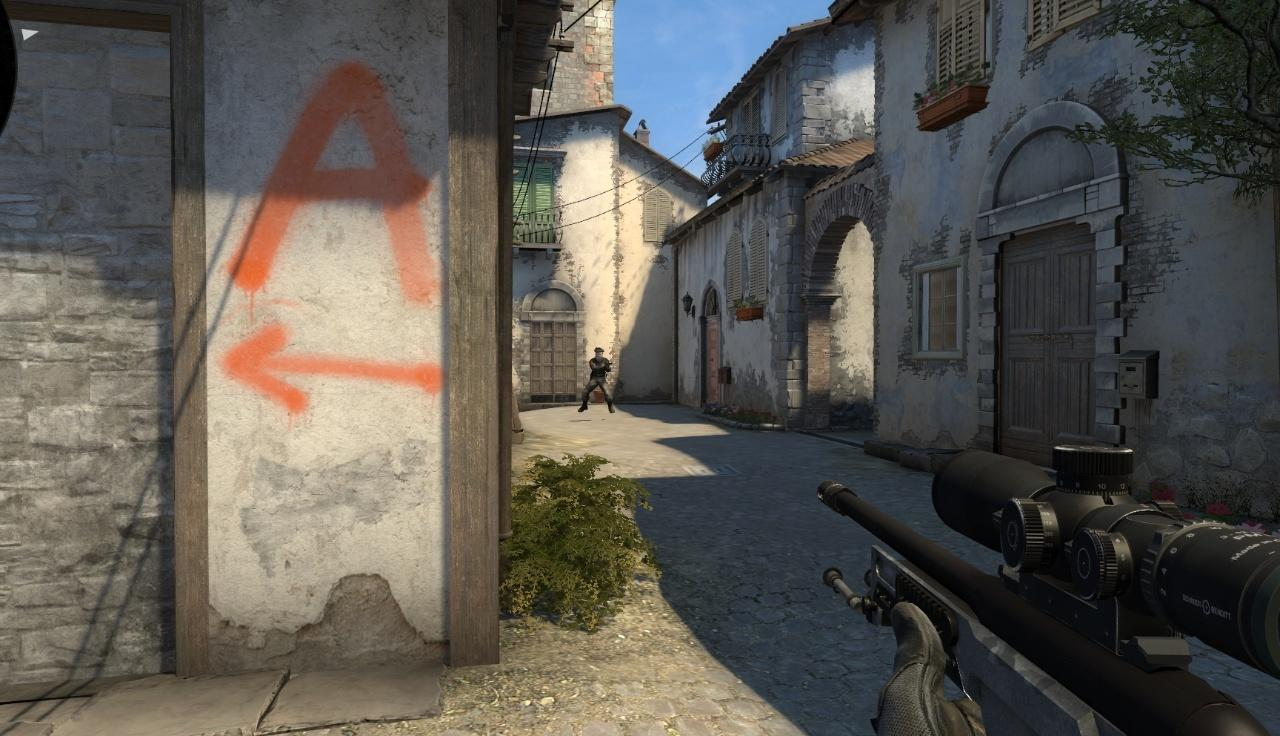sniper: (813, 447, 1280, 734)
tt: (577, 348, 616, 413)
tthead: (594, 347, 605, 360)
